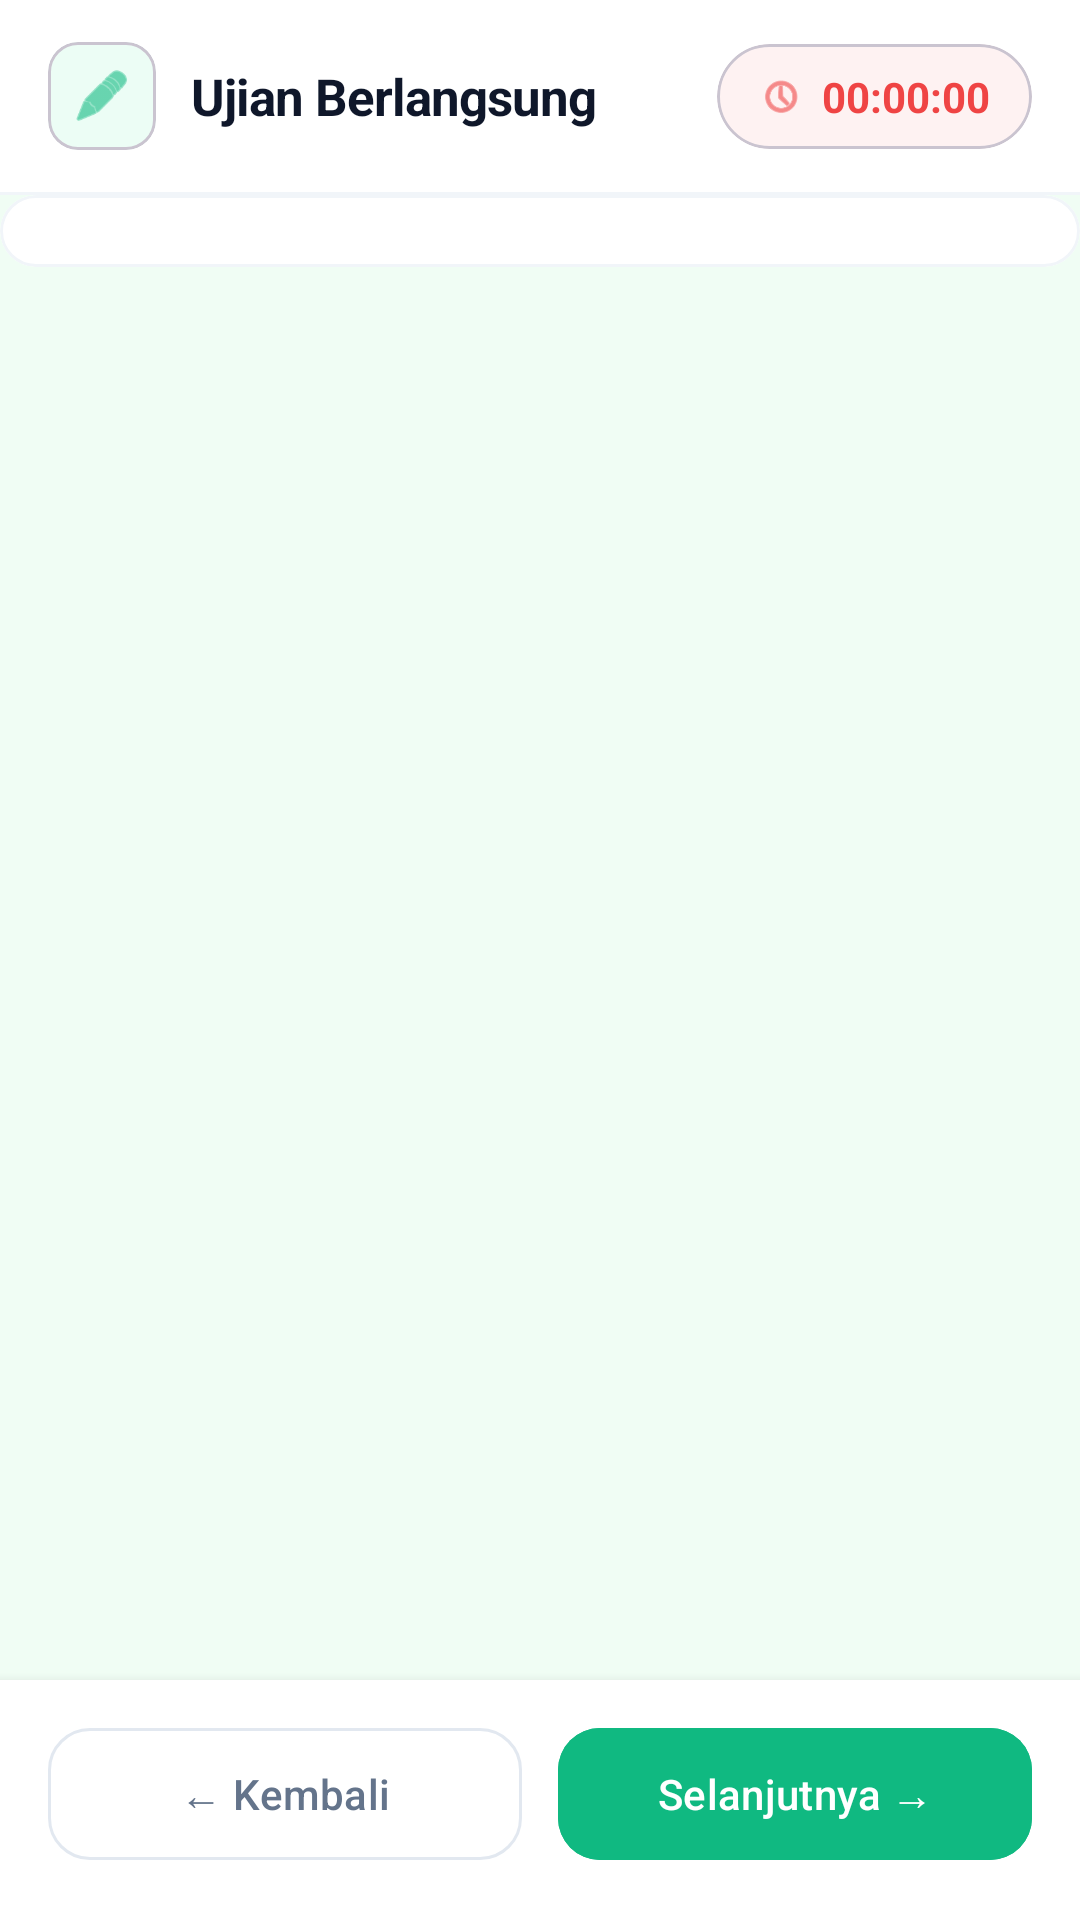

Named icons in this screenshot (1080 x 1920) and their bounding boxes, (x1, y1, x2, y2):
edit: (76, 70, 127, 121)
recent history: (765, 80, 798, 113)
